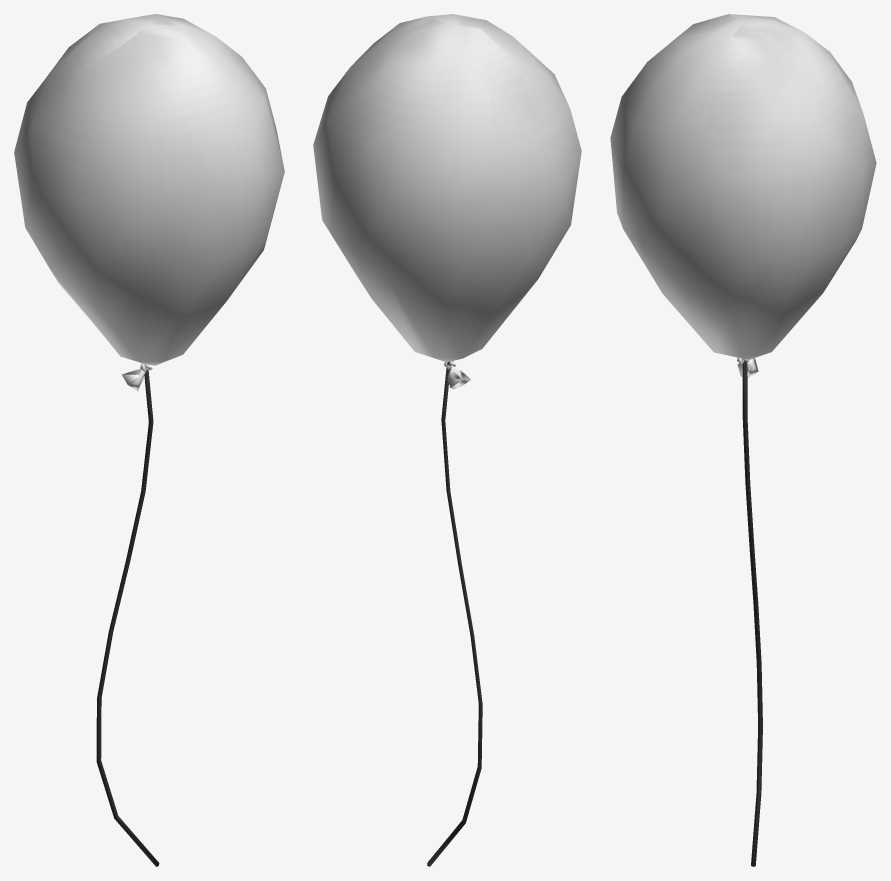
The model's file is Balloon.fbx.
3 renders of one model, left to right at view 1: azimuth 30°, elevation 25°; view 2: azimuth 150°, elevation 25°; view 3: azimuth 270°, elevation 25°, orthographic.
Parts seen in each view (by area): view 1: Balloon, BézierCurve; view 2: Balloon, BézierCurve; view 3: Balloon, BézierCurve.
Boxes of the visible parts, x1,y1,x2,y2 form: Balloon: (14,14,284,391); BézierCurve: (96,369,159,866); Balloon: (313,14,581,389); BézierCurve: (427,361,482,866); Balloon: (610,14,876,378); BézierCurve: (742,360,762,866).
Bounding box in the file's own units: 17.23 × 59.84 × 17.23.
